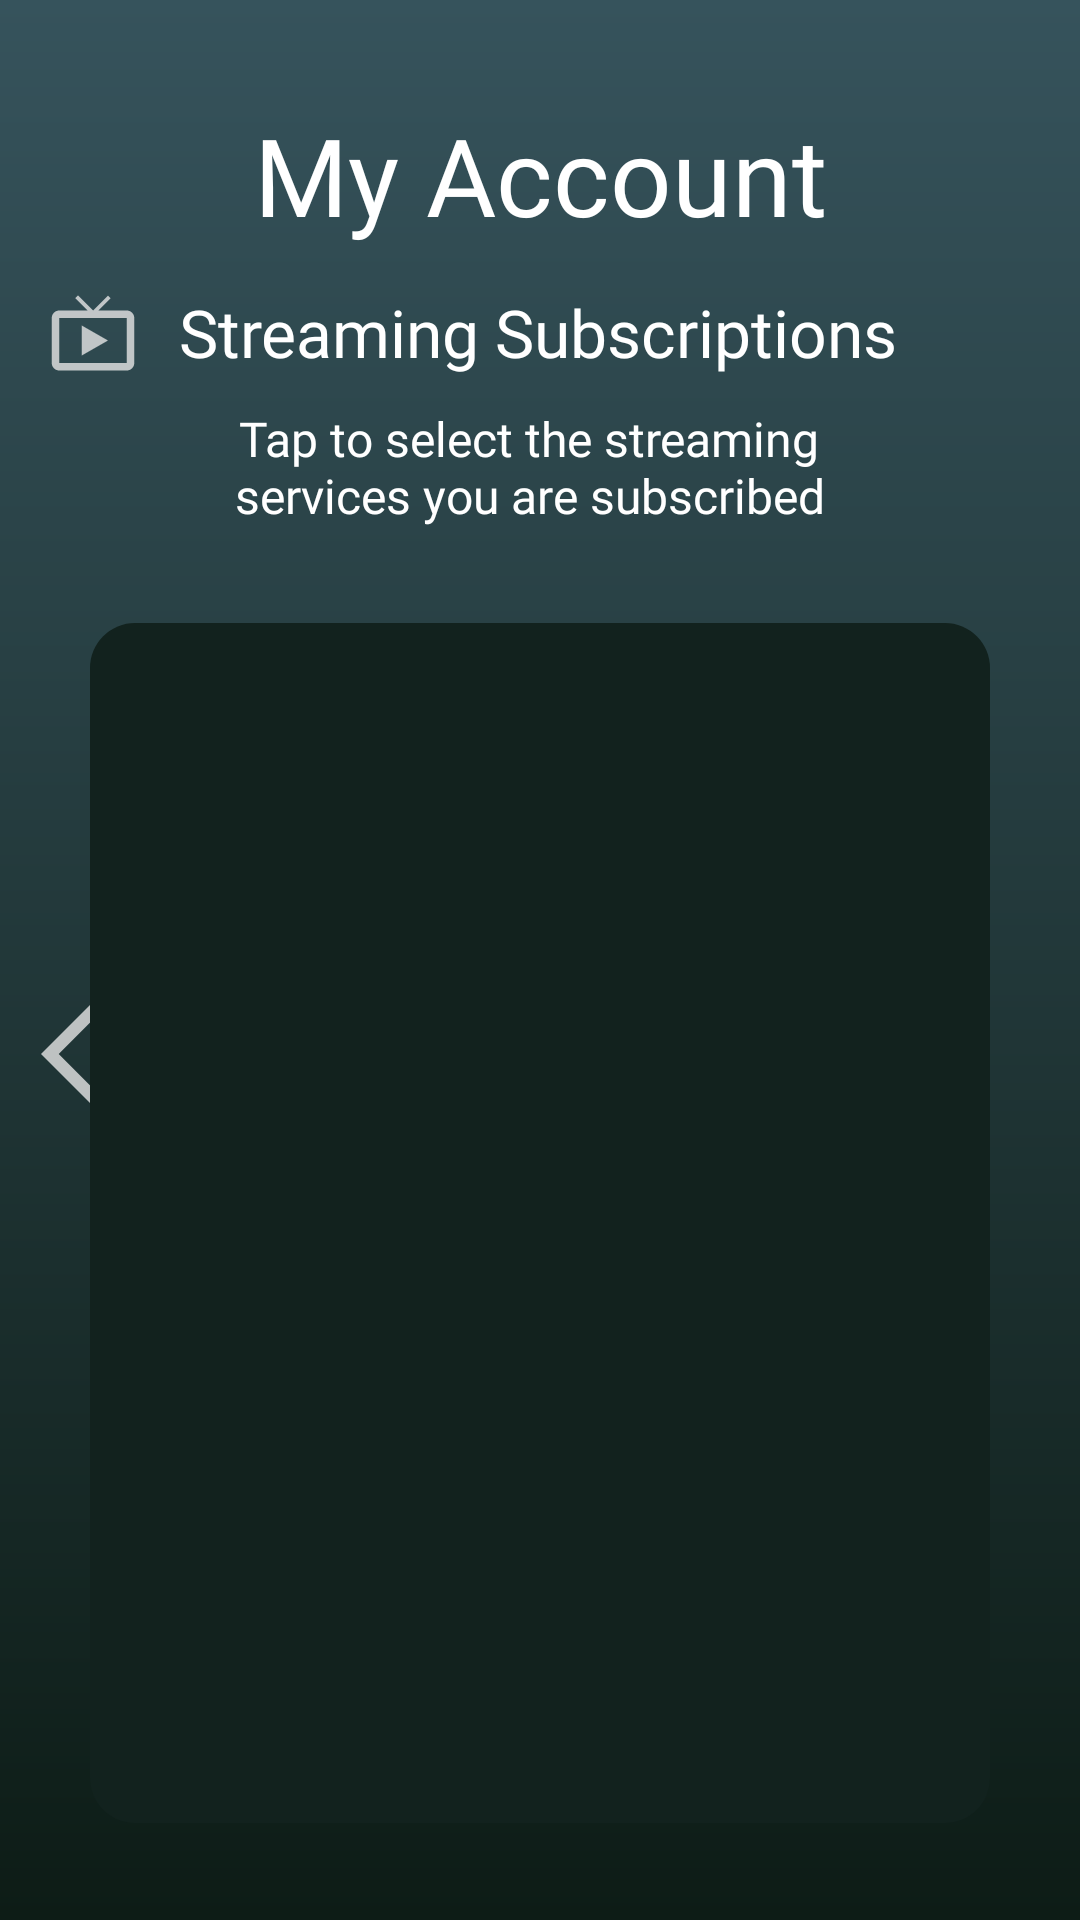

Icons on this 1080px×1920px Android screen, each with its box as (x1, y1, x2, y2):
arrow back: (41, 994, 90, 1103)
live tv: (51, 295, 135, 371)
